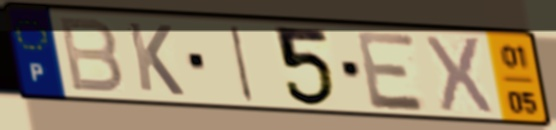5: (269, 24, 340, 109)
B: (54, 14, 126, 96)
E: (352, 28, 430, 114)
I: (227, 22, 257, 104)
K: (123, 19, 188, 99)
X: (422, 33, 497, 118)
